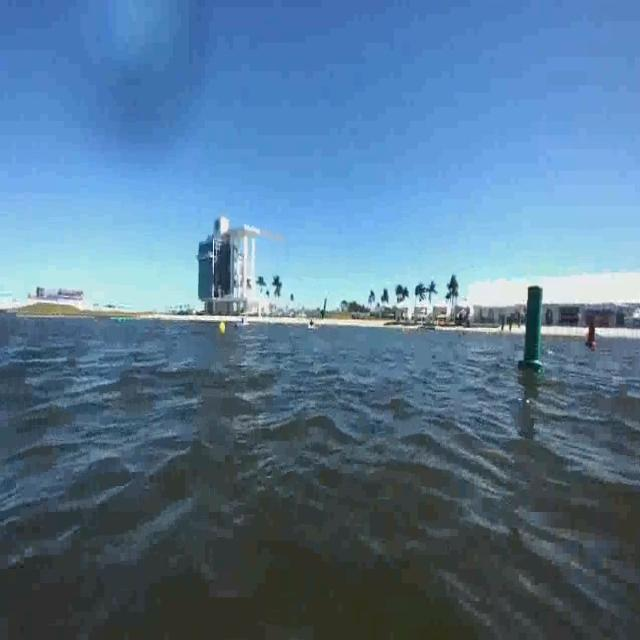green-column-buoy: (519, 283, 548, 377)
red-column-buoy: (587, 316, 599, 351)
yellow-buoy: (218, 319, 227, 336)
